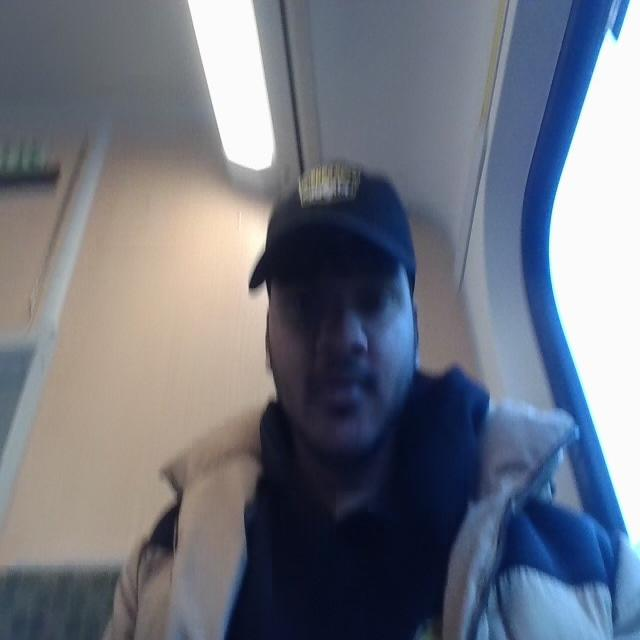hat: (247, 160, 423, 291)
